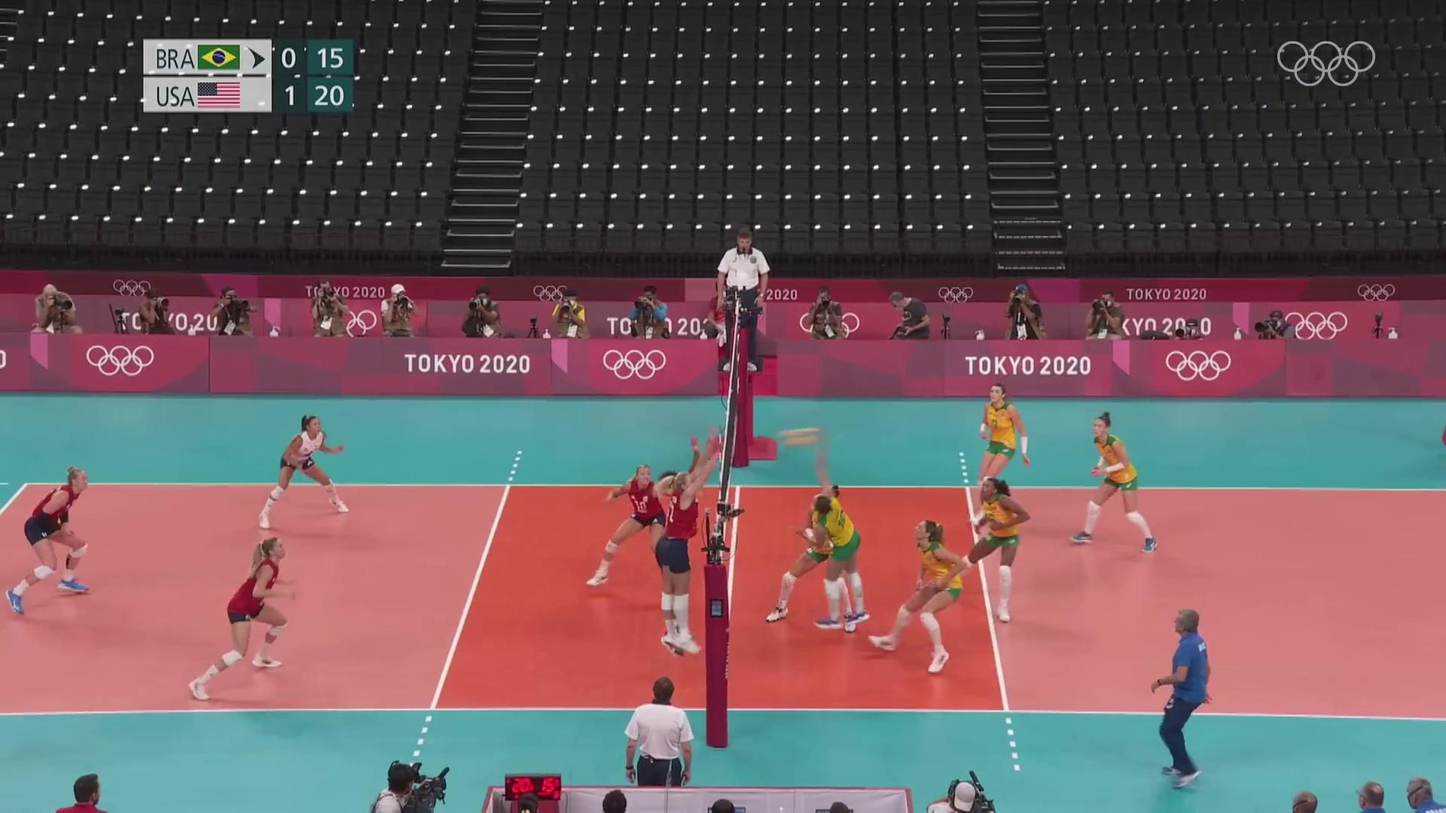player: (190, 536, 292, 705), (879, 516, 978, 669), (658, 435, 724, 658), (588, 463, 699, 595), (764, 481, 858, 626), (3, 468, 91, 614), (1074, 412, 1156, 551), (253, 416, 350, 527), (657, 435, 704, 659), (959, 478, 1028, 625), (965, 383, 1033, 530), (812, 472, 871, 632)
refree: (712, 228, 773, 371), (619, 679, 698, 786)
